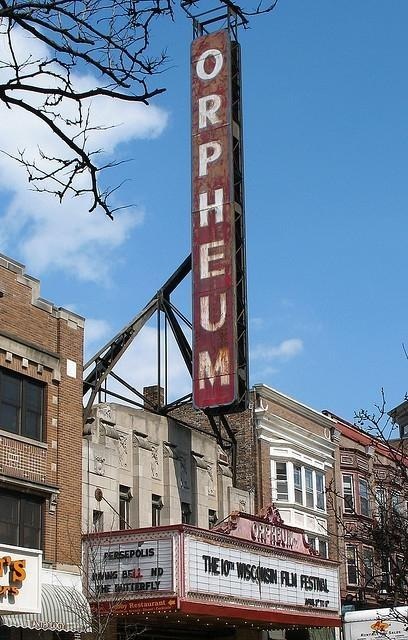truck: (344, 606, 408, 639)
